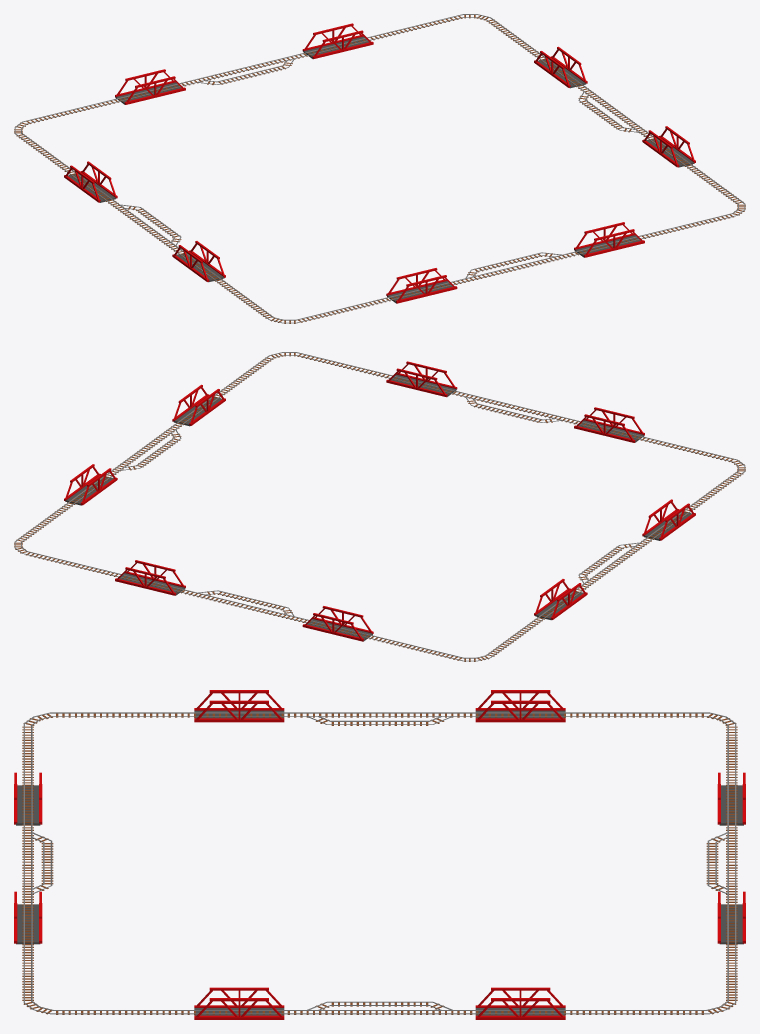
The model's file is Train-Rails.glb.
3 renders of one model, top to bottom at view 1: azimuth 30°, elevation 25°; view 2: azimuth 150°, elevation 25°; view 3: azimuth 270°, elevation 25°, orthographic. The views are drawn at different scales.
Visible parts, largest first — view 1: Cube.655, Cube.112, Cube.1147, Cube.1146, Cube.658, Cube.1007, Cube.1139, Cube.1140, Cube.1151, Cube.111, Cube.1006, Cube.1145 (+4 smaller); view 2: Cube.655, Cube.112, Cube.1147, Cube.1146, Cube.658, Cube.1007, Cube.1139, Cube.1140, Cube.1151, Cube.111, Cube.1006, Cube.1145 (+4 smaller); view 3: Cube.112, Cube.1146, Cube.1140, Cube.111, Cube.655, Cube.1139, Cube.1145, Cube.1006, Cube.658, Cube.1007, Cube.1141, Cube.1147 (+2 smaller).
Part boxes in pixels (x1,y1,x2,y2): Cube.655: (16, 19, 743, 318); Cube.112: (26, 16, 733, 322); Cube.1147: (115, 35, 644, 303); Cube.1146: (116, 36, 640, 303); Cube.658: (22, 14, 737, 322); Cube.1007: (27, 17, 732, 320); Cube.1139: (68, 59, 694, 282); Cube.1140: (64, 56, 695, 281); Cube.1151: (125, 23, 634, 286); Cube.111: (15, 17, 744, 319); Cube.1006: (21, 19, 738, 317); Cube.1145: (70, 46, 689, 263); Cube.655: (16, 357, 743, 656); Cube.112: (26, 354, 733, 660); Cube.1147: (115, 373, 644, 641); Cube.1146: (119, 374, 643, 641); Cube.658: (22, 352, 737, 660); Cube.1007: (27, 355, 732, 658); Cube.1139: (65, 397, 691, 620); Cube.1140: (64, 394, 695, 619); Cube.1151: (125, 361, 634, 624); Cube.111: (15, 355, 744, 657); Cube.1006: (21, 357, 738, 655); Cube.1145: (70, 384, 689, 601); Cube.112: (22, 726, 737, 1000); Cube.1146: (16, 785, 743, 944); Cube.1140: (194, 708, 565, 1019); Cube.111: (50, 712, 709, 1014); Cube.655: (56, 713, 703, 1014); Cube.1139: (194, 710, 565, 1015); Cube.1145: (209, 690, 550, 1001); Cube.1006: (53, 716, 706, 1010); Cube.658: (23, 724, 736, 1002); Cube.1007: (31, 725, 728, 1001); Cube.1141: (196, 693, 563, 1016); Cube.1147: (14, 784, 745, 943).
Bounding box in the file's own units: 127 × 4.08 × 127.
